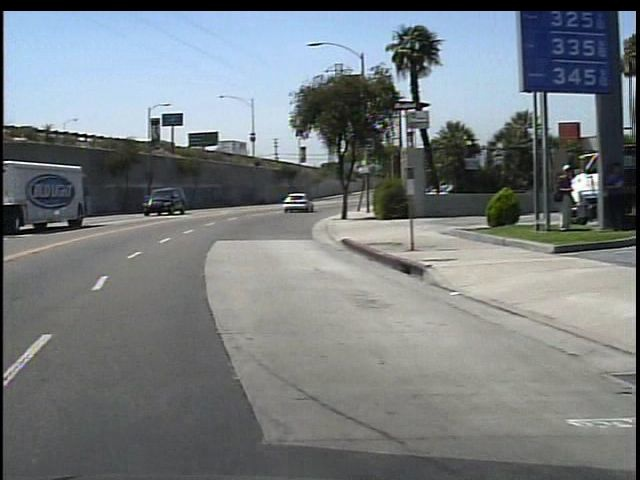person: (544, 162, 571, 235)
